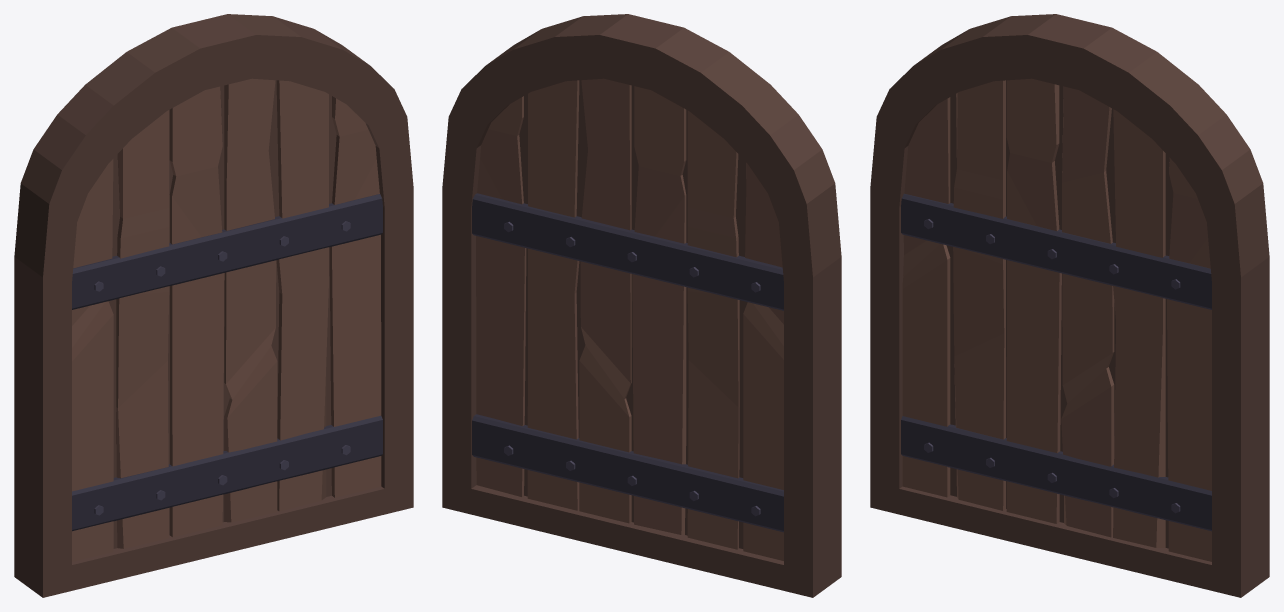
Rendered from Arch_Door_bottompivot.glb.
3 renders of one model, left to right at view 1: azimuth 30°, elevation 25°; view 2: azimuth 150°, elevation 25°; view 3: azimuth 330°, elevation 25°, orthographic.
Parts seen in each view (by area): view 1: Arch_Door_bottompivot; view 2: Arch_Door_bottompivot; view 3: Arch_Door_bottompivot.
Part boxes in pixels (x1,y1,x2,y2): Arch_Door_bottompivot: (14, 14, 413, 597); Arch_Door_bottompivot: (442, 14, 841, 597); Arch_Door_bottompivot: (870, 14, 1269, 597).
Size of the model in its own units: 2.42 by 3.19 by 0.3296.
